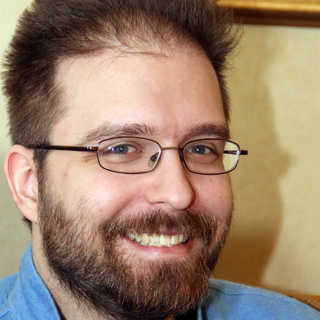eye: (90, 136, 146, 163), (171, 138, 221, 166)
